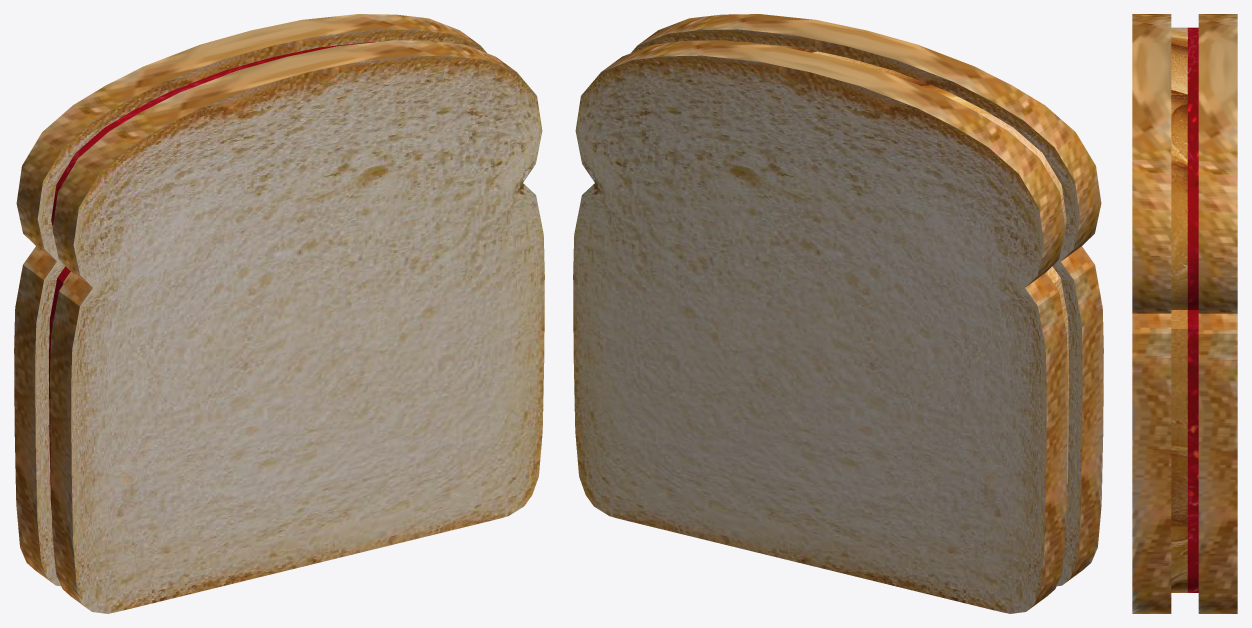
File: MainSandwichFix.fbx
The picture shows the model from 3 angles, left to right: view 1: azimuth 30°, elevation 25°; view 2: azimuth 150°, elevation 25°; view 3: azimuth 270°, elevation 25°; orthographic projection. The views are drawn at different scales.
Visible parts, largest first — view 1: MainSandwich; view 2: MainSandwich; view 3: MainSandwich.
Boxes of the visible parts, x1,y1,x2,y2 form: MainSandwich: [14, 14, 544, 613]; MainSandwich: [573, 14, 1103, 613]; MainSandwich: [1132, 14, 1237, 613].
Bounding box in the file's own units: 315 × 314 × 65.78.
